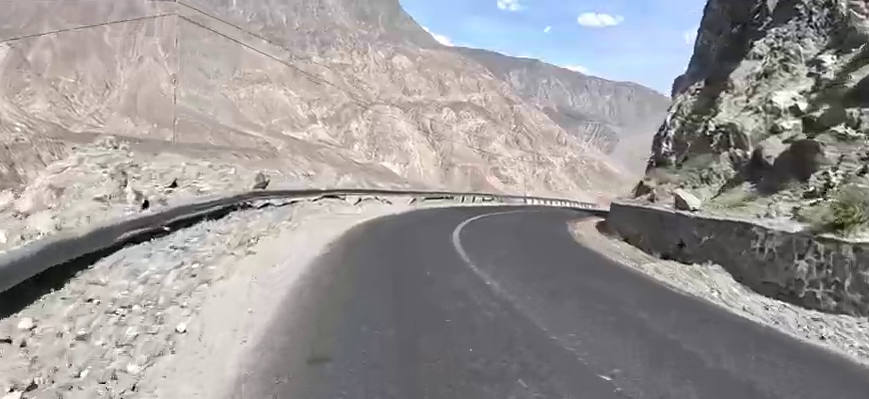stright: (343, 176, 666, 312)
